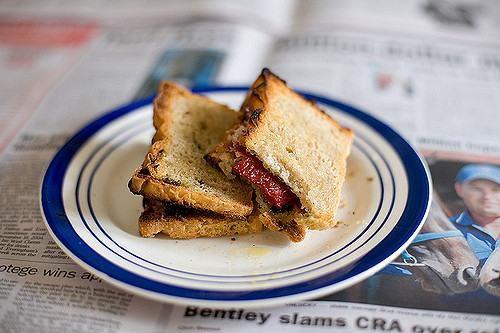slice of bread: (244, 70, 348, 226)
